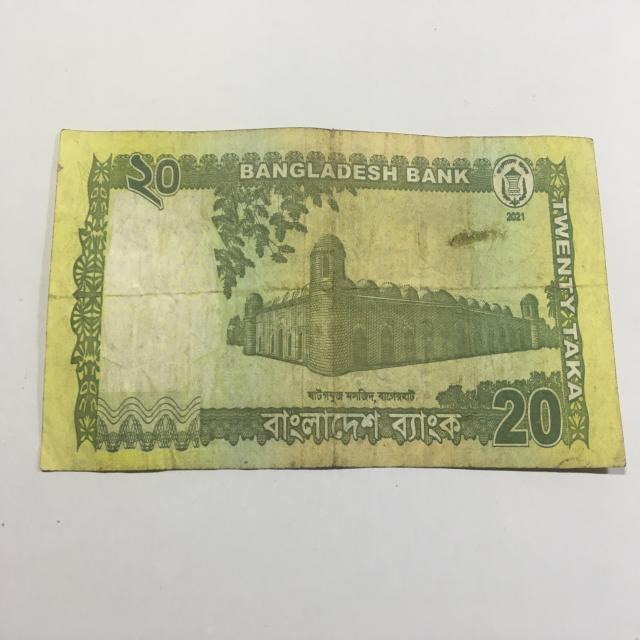Taka: (46, 121, 631, 484)
